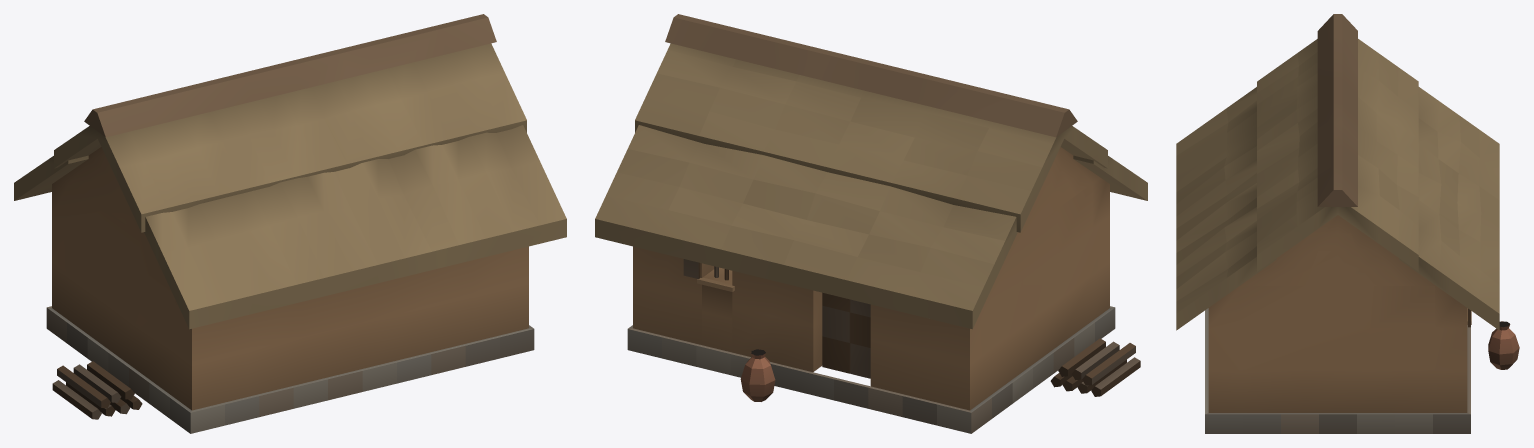
File: casa_rancho_a.glb
3 views of the same model, side by side, from view 1: azimuth 30°, elevation 25°; view 2: azimuth 150°, elevation 25°; view 3: azimuth 270°, elevation 25° (orthographic). The views are drawn at different scales.
Visible parts, largest first — view 1: casa_rancho_a; view 2: casa_rancho_a; view 3: casa_rancho_a.
Part boxes in pixels (x1,y1,x2,y2): casa_rancho_a: (14, 14, 566, 433); casa_rancho_a: (595, 14, 1147, 433); casa_rancho_a: (1176, 14, 1519, 433).
Bounding box in the file's own units: 6.36 × 3.91 × 4.78.
